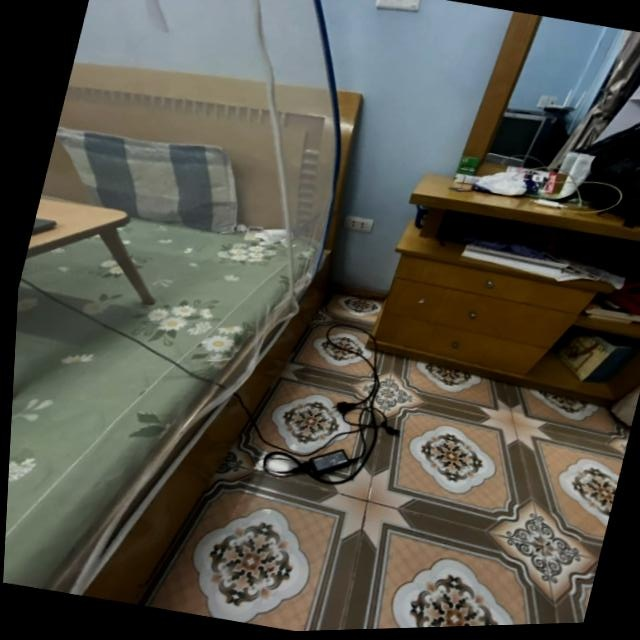outlet: (342, 216, 375, 235)
